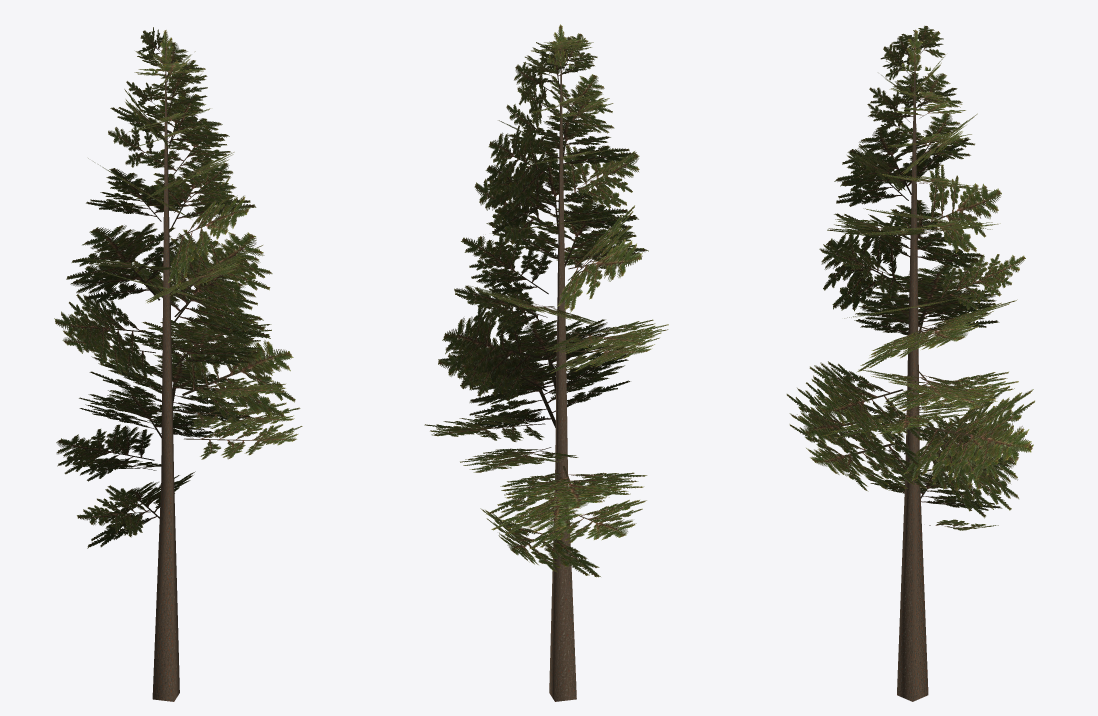
The model's file is fir_tall_a_lod5.gltf.
3 renders of one model, left to right at view 1: azimuth 30°, elevation 25°; view 2: azimuth 150°, elevation 25°; view 3: azimuth 270°, elevation 25°, orthographic.
Visible parts, largest first — view 1: fir_tall_a_LOD5; view 2: fir_tall_a_LOD5; view 3: fir_tall_a_LOD5.
Part boxes in pixels (bbox=[...]): fir_tall_a_LOD5: bbox=[54, 27, 302, 701]; fir_tall_a_LOD5: bbox=[424, 24, 668, 701]; fir_tall_a_LOD5: bbox=[786, 25, 1034, 701].
Bounding box in the file's own units: 13.72 × 30.59 × 14.01.
Materials: 2 (2 with a texture image).
